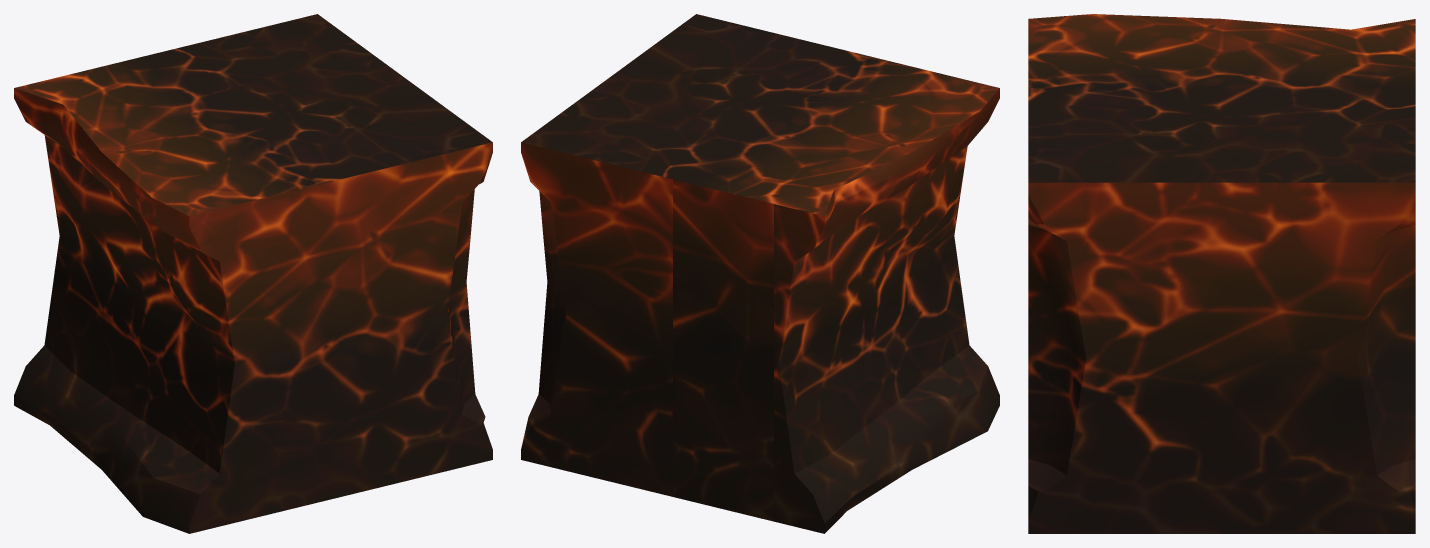
File: wall_12_T_ D.fbx
3 views of the same model, side by side, from view 1: azimuth 30°, elevation 25°; view 2: azimuth 150°, elevation 25°; view 3: azimuth 270°, elevation 25° (orthographic). The views are drawn at different scales.
Visible parts, largest first — view 1: wall_12; view 2: wall_12; view 3: wall_12.
Boxes of the visible parts, x1,y1,x2,y2 form: wall_12: [14, 14, 492, 533]; wall_12: [521, 14, 999, 533]; wall_12: [1028, 14, 1415, 533].
Bounding box in the file's own units: 106 × 100 × 100.
